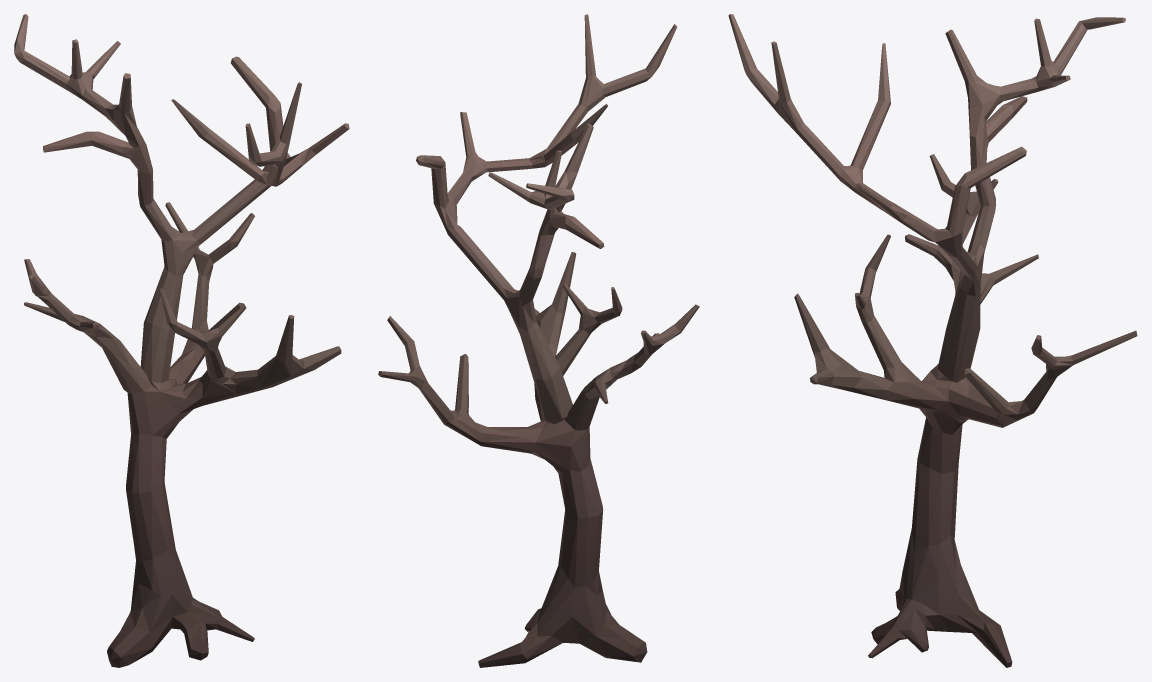
The model's file is tree-5.glb.
3 views of the same model, side by side, from view 1: azimuth 30°, elevation 25°; view 2: azimuth 150°, elevation 25°; view 3: azimuth 270°, elevation 25° (orthographic). The views are drawn at different scales.
Visible parts, largest first — view 1: tree5; view 2: tree5; view 3: tree5.
Part boxes in pixels (left/top/right/bottom): tree5: left=14, top=14, right=349, bottom=667; tree5: left=378, top=14, right=699, bottom=667; tree5: left=728, top=14, right=1137, bottom=667.
Bounding box in the file's own units: 2.96 × 5.99 × 3.54.
1 material, 1 textured.
